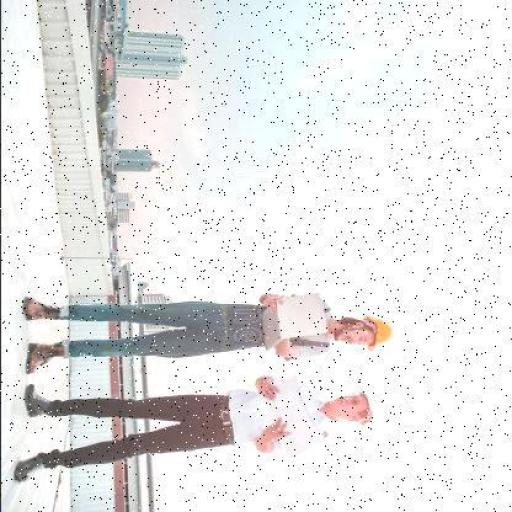person: (9, 283, 401, 374), (16, 377, 390, 464)
safety_shoe: (22, 340, 60, 374), (21, 383, 50, 421), (12, 455, 46, 483), (21, 298, 61, 321)
